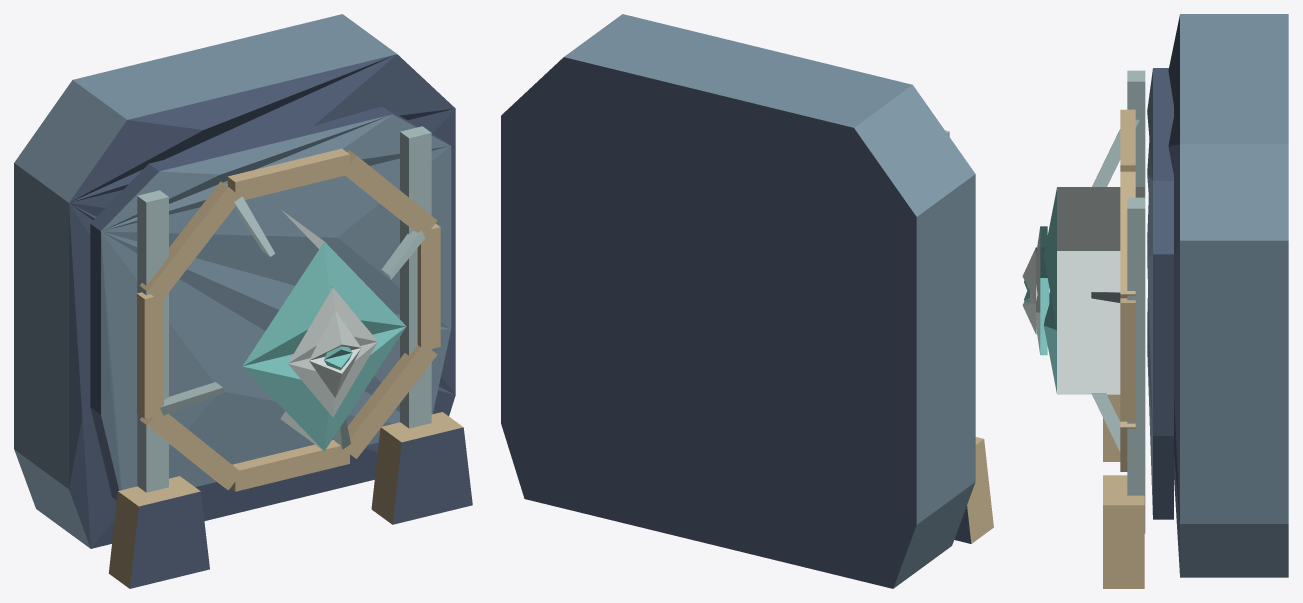
File: moonwell_pack.glb
3 renders of one model, left to right at view 1: azimuth 30°, elevation 25°; view 2: azimuth 150°, elevation 25°; view 3: azimuth 270°, elevation 25°, orthographic. The views are drawn at different scales.
Parts seen in each view (by area): view 1: body; view 2: body; view 3: body.
Part boxes in pixels (<box>): body: <box>14,14,472,588</box>; body: <box>501,14,993,588</box>; body: <box>1022,14,1288,588</box>.
Size of the model in its own units: 10.6 by 11.3 by 6.38.
